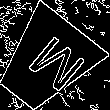M_SW: (11, 28, 81, 96)
